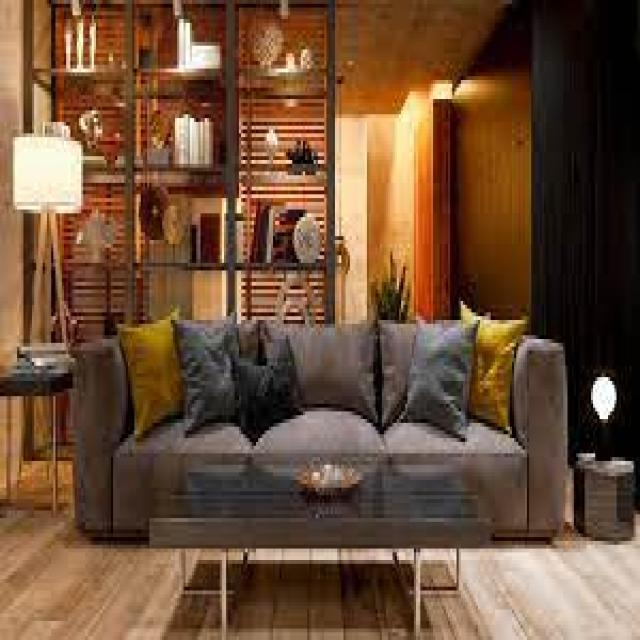Lamp: (0, 121, 90, 349), (575, 445, 635, 548), (584, 357, 624, 453)
Sofa: (65, 295, 572, 572)
Table: (137, 457, 486, 640), (0, 345, 77, 517)
